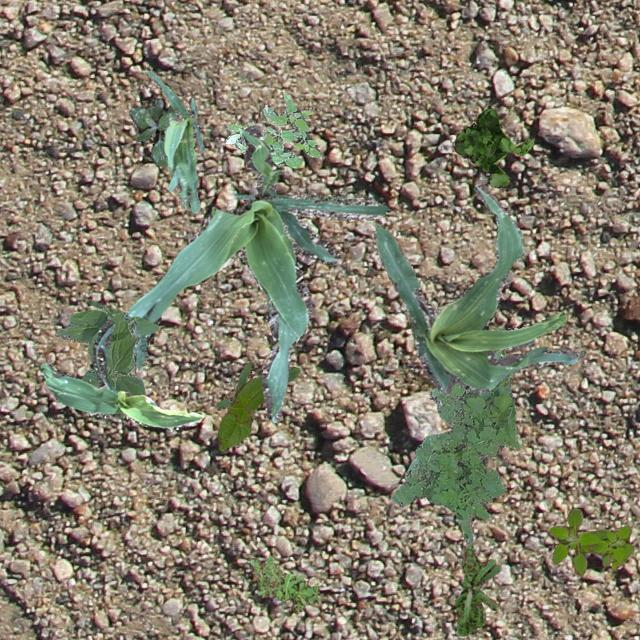crop: (125, 125, 388, 422), (372, 182, 582, 394), (39, 320, 202, 430), (54, 300, 158, 394), (146, 70, 203, 212), (214, 360, 298, 410), (218, 376, 264, 450)
weed: (392, 348, 520, 546), (224, 92, 320, 166), (452, 105, 532, 186), (548, 508, 632, 574), (454, 544, 499, 634), (248, 556, 320, 612), (128, 96, 178, 166)
